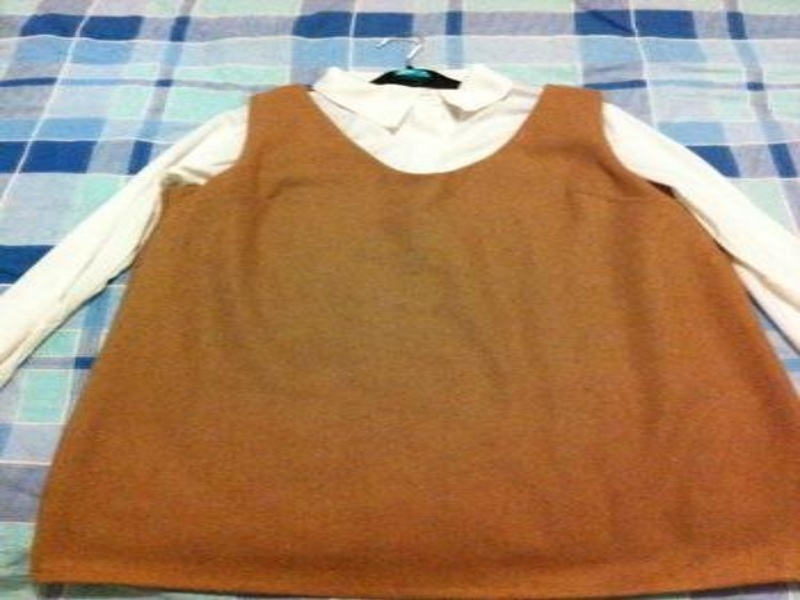long_sleeved_shirt: (0, 62, 798, 400)
vest_dress: (23, 79, 798, 599)
